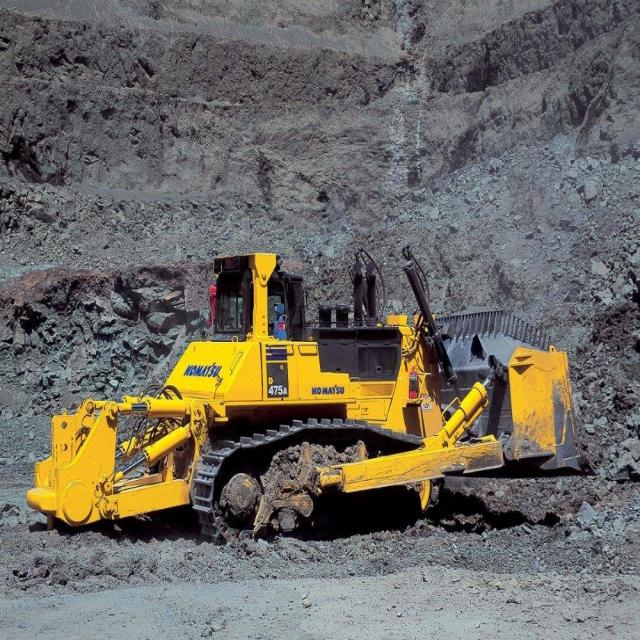buldozerpayloadergrader: (35, 225, 604, 545)
